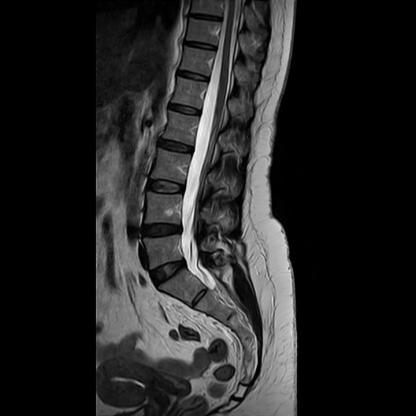Disc Bulgerotation: (148, 259, 193, 287), (140, 220, 187, 243)
